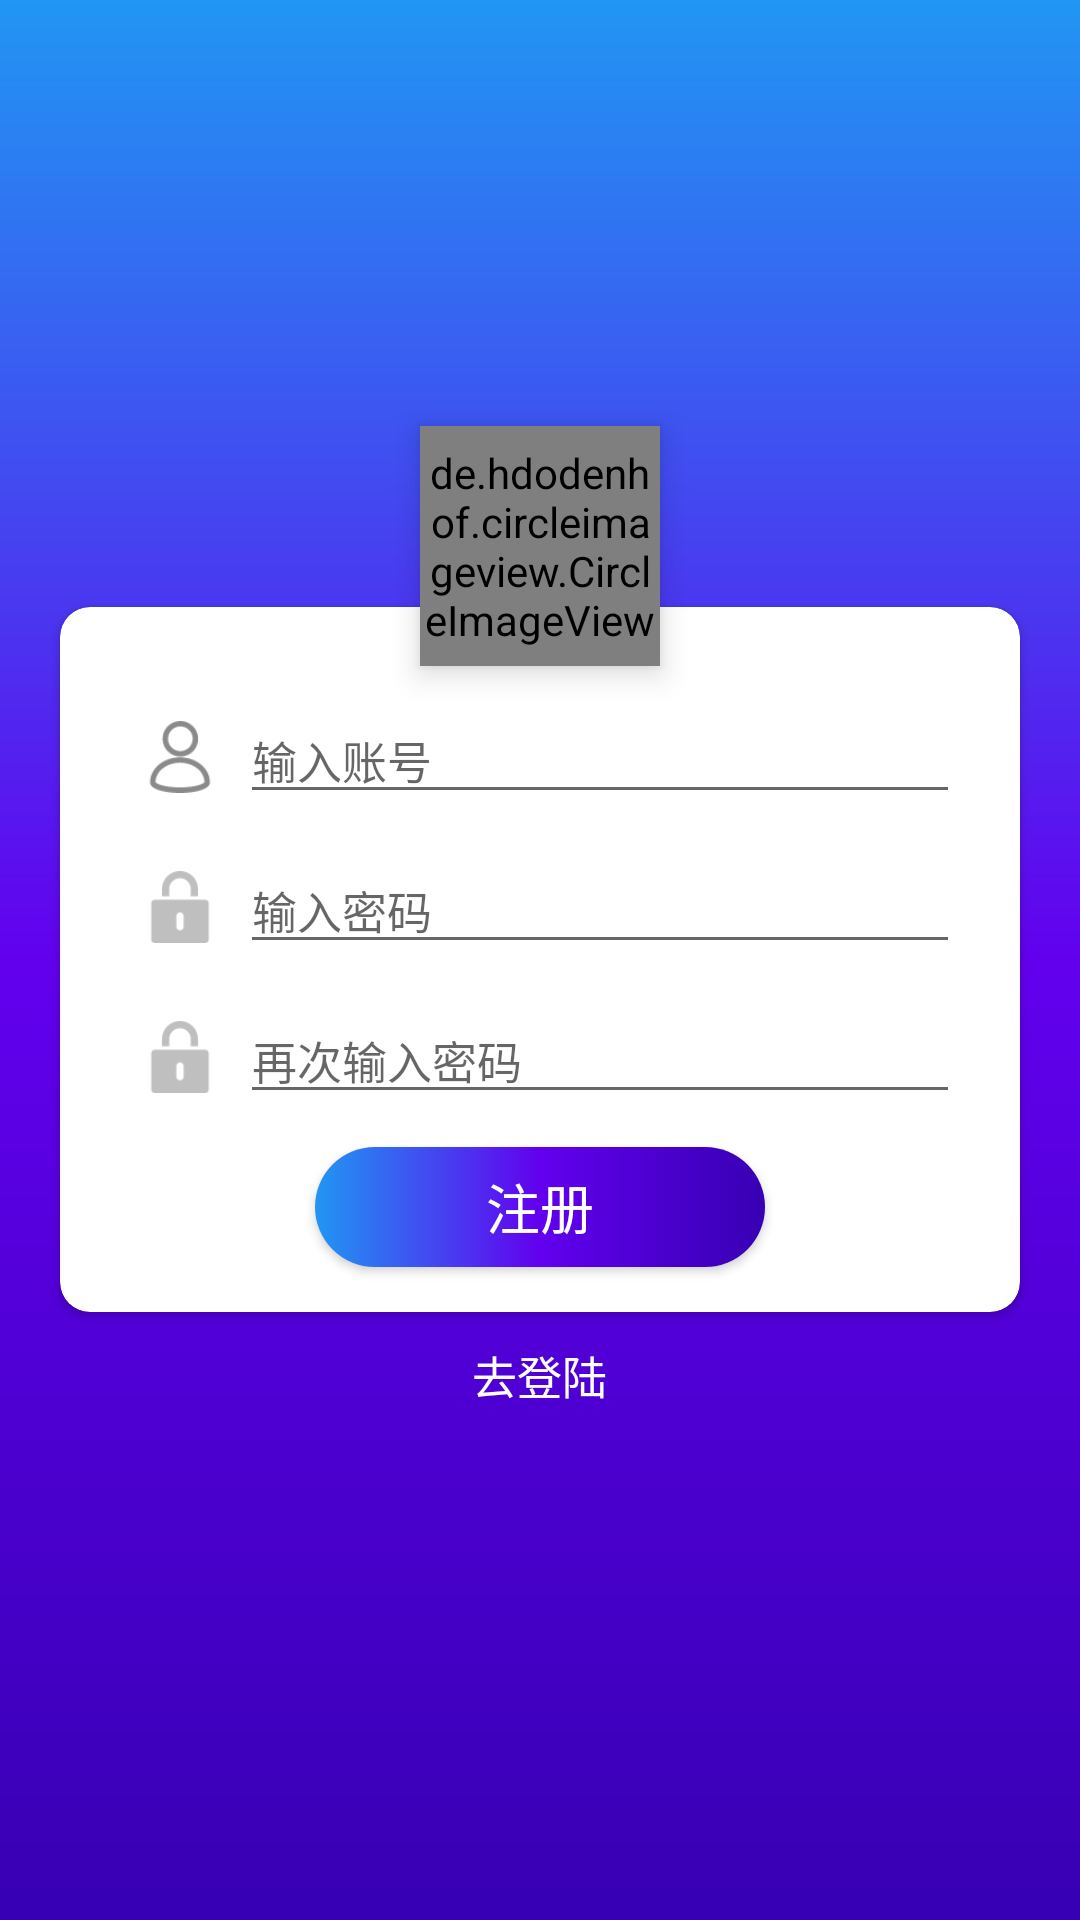

Icon click points for this 1080 × 1920 phone screenshot, format point (x, y):
account input: point (180, 757)
password input: point (180, 907), point (180, 1057)
